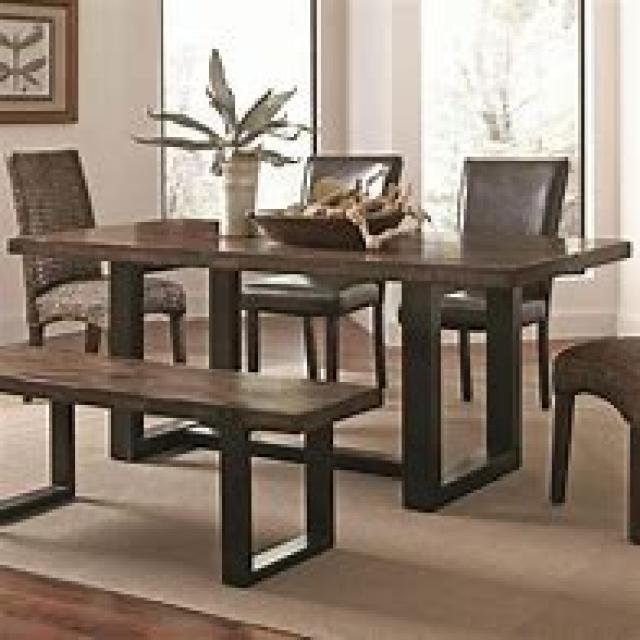chair: (395, 154, 568, 408), (3, 147, 186, 362), (238, 154, 402, 388)
table: (6, 216, 634, 510)
